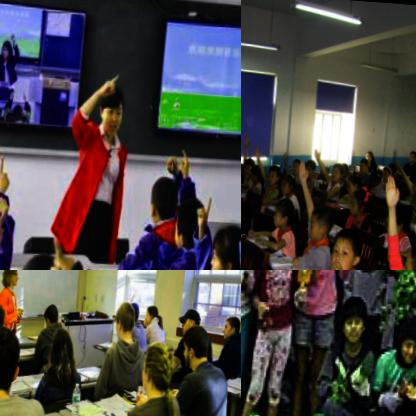head: (144, 337, 183, 399), (335, 284, 375, 342), (177, 190, 212, 244), (0, 323, 28, 388), (150, 161, 184, 214), (331, 222, 368, 270), (20, 240, 77, 270), (97, 80, 129, 130), (213, 214, 241, 270), (52, 323, 82, 375), (183, 320, 216, 365), (308, 199, 342, 241), (395, 304, 416, 366), (117, 296, 142, 337), (275, 194, 300, 229), (350, 184, 376, 214), (182, 302, 206, 334), (144, 296, 167, 322), (127, 293, 147, 321), (45, 300, 65, 326), (223, 308, 241, 334), (281, 170, 300, 194), (331, 158, 348, 182), (347, 169, 364, 190), (244, 152, 259, 175), (3, 270, 23, 286), (270, 158, 282, 183), (0, 299, 10, 326), (253, 161, 265, 182), (307, 155, 319, 175), (383, 158, 394, 177), (360, 154, 372, 170), (293, 154, 304, 170), (408, 167, 416, 187), (367, 145, 377, 159), (342, 157, 351, 171), (410, 142, 416, 158)
